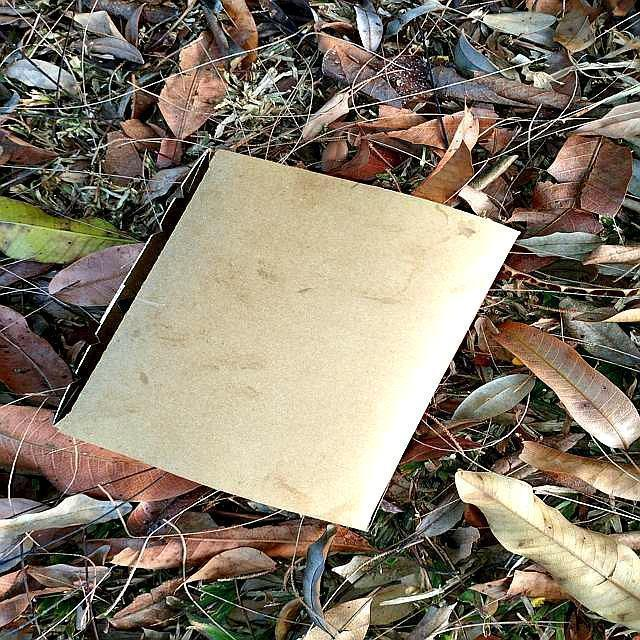Biodegradable: (42, 134, 523, 542)
